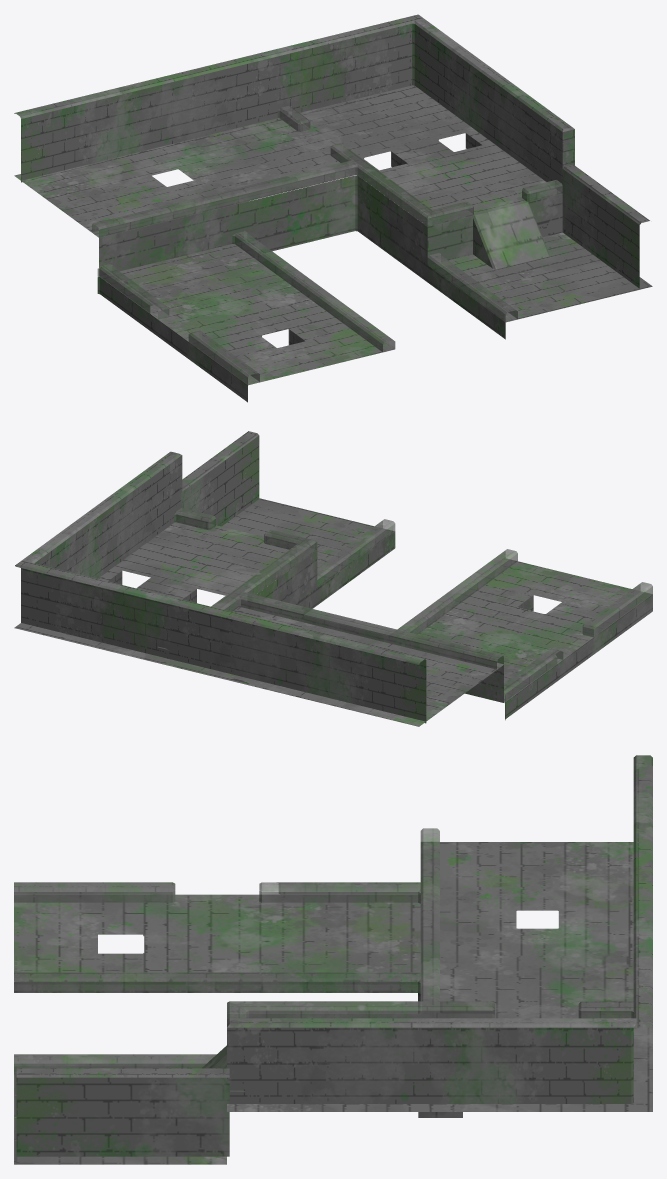
Rendered from lvl_1-cnk_4.obj.
3 renders of one model, top to bottom at view 1: azimuth 30°, elevation 25°; view 2: azimuth 150°, elevation 25°; view 3: azimuth 270°, elevation 25°, orthographic. The views are drawn at different scales.
Visible parts, largest first — view 1: Cube.073, Cube.074, Cube.080, Cube.077, Cube.075, Cube.082, Cube.081, Cube.076, Cube.083, Cube.079; view 2: Cube.073, Cube.074, Cube.080, Cube.077, Cube.075, Cube.082, Cube.081, Cube.076, Cube.083, Cube.079; view 3: Cube.073, Cube.080, Cube.075, Cube.082, Cube.077, Cube.074, Cube.083, Cube.076, Cube.081, Cube.078.
Part boxes in pixels (<box>): Cube.073: <box>14,85,652,402</box>; Cube.074: <box>14,14,422,182</box>; Cube.080: <box>412,18,574,192</box>; Cube.077: <box>92,143,473,237</box>; Cube.075: <box>561,164,649,288</box>; Cube.082: <box>232,231,395,352</box>; Cube.081: <box>427,253,517,322</box>; Cube.076: <box>188,330,259,385</box>; Cube.083: <box>97,264,169,319</box>; Cube.079: <box>522,180,562,201</box>; Cube.073: <box>14,498,652,726</box>; Cube.074: <box>15,560,426,723</box>; Cube.080: <box>22,451,182,578</box>; Cube.077: <box>212,529,503,669</box>; Cube.075: <box>181,431,259,526</box>; Cube.082: <box>397,549,517,634</box>; Cube.081: <box>317,519,395,587</box>; Cube.076: <box>582,582,652,637</box>; Cube.083: <box>504,648,563,702</box>; Cube.079: <box>174,508,215,529</box>; Cube.073: <box>14,842,652,1164</box>; Cube.080: <box>227,1018,636,1103</box>; Cube.075: <box>16,1068,229,1156</box>; Cube.082: <box>14,972,420,993</box>; Cube.077: <box>227,828,494,1019</box>; Cube.074: <box>633,755,652,1027</box>; Cube.083: <box>259,882,420,903</box>; Cube.076: <box>14,882,175,902</box>; Cube.081: <box>14,1054,216,1074</box>; Cube.078: <box>578,1001,633,1018</box>.
Size of the model in its own units: 99.33 by 27.82 by 99.
